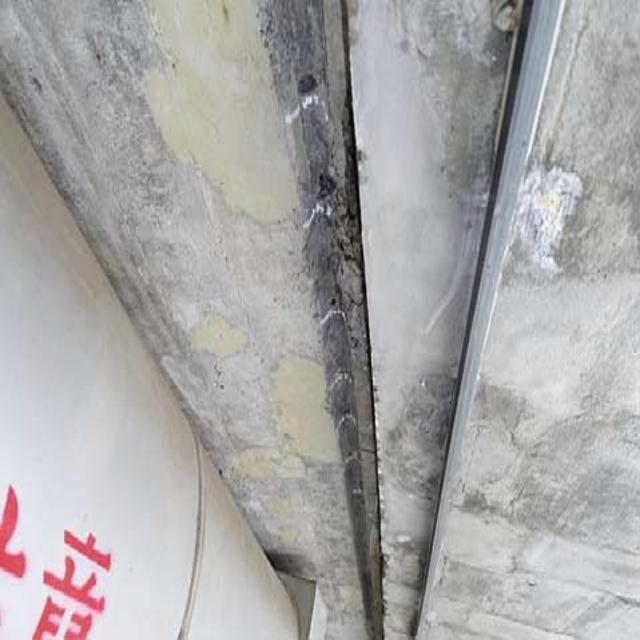freelime: (510, 163, 584, 291)
